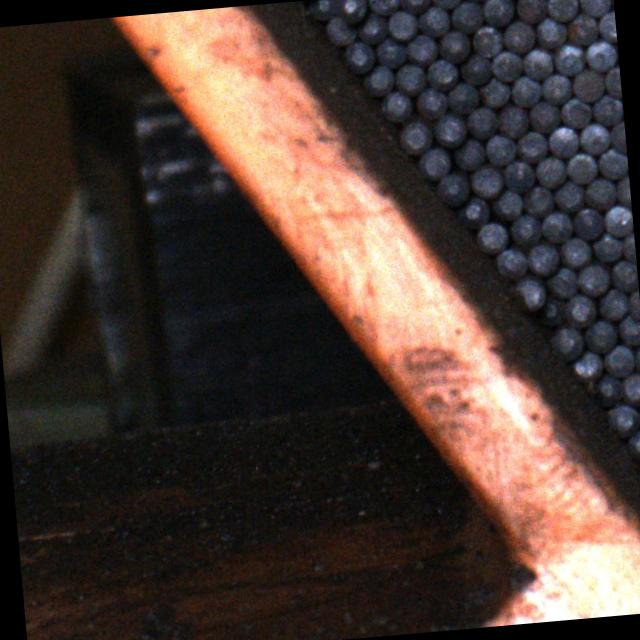tool: (510, 272, 548, 312), (532, 292, 568, 332), (468, 161, 504, 201), (601, 402, 640, 438), (454, 192, 490, 230), (522, 239, 558, 276), (397, 119, 433, 156), (471, 220, 509, 255), (456, 50, 492, 86), (555, 234, 593, 268), (518, 183, 554, 218), (416, 146, 452, 181), (464, 104, 499, 140), (442, 80, 478, 115), (500, 18, 536, 53), (534, 15, 570, 50), (590, 371, 624, 408), (569, 205, 603, 242), (342, 37, 376, 74), (434, 171, 469, 206), (532, 154, 567, 189), (353, 9, 388, 44), (566, 348, 602, 382), (548, 326, 584, 360), (562, 294, 598, 328), (600, 202, 634, 238), (550, 178, 586, 212), (358, 62, 394, 96), (544, 124, 580, 158), (570, 66, 604, 102), (392, 62, 428, 96), (447, 0, 484, 33), (377, 89, 412, 123), (450, 136, 485, 170), (513, 130, 548, 164), (577, 120, 612, 154), (528, 99, 562, 134), (476, 74, 511, 108), (434, 28, 469, 62), (564, 149, 597, 185), (497, 102, 530, 138), (542, 266, 579, 298), (600, 343, 634, 377), (596, 288, 630, 322), (576, 262, 610, 296), (501, 159, 535, 193), (432, 112, 466, 146), (412, 85, 446, 119), (490, 48, 524, 82), (468, 24, 502, 58), (538, 210, 573, 243), (372, 36, 407, 69), (582, 319, 616, 352), (493, 247, 527, 280), (560, 95, 594, 128), (538, 71, 571, 105), (521, 47, 554, 81), (582, 177, 615, 210), (590, 92, 624, 124), (425, 56, 457, 90), (552, 42, 584, 76), (583, 39, 617, 71), (384, 9, 418, 41), (482, 132, 514, 165), (405, 33, 437, 66), (416, 4, 448, 37), (591, 230, 622, 264), (508, 214, 540, 246), (489, 189, 521, 221), (324, 14, 356, 46), (596, 148, 628, 180), (508, 74, 540, 106), (566, 12, 596, 45), (608, 258, 638, 290), (612, 313, 640, 346), (480, 0, 515, 26), (304, 0, 336, 25), (594, 8, 617, 42), (515, 0, 548, 23), (545, 0, 580, 21), (619, 372, 640, 406), (335, 0, 367, 22), (612, 175, 632, 208), (576, 0, 611, 18), (608, 120, 626, 152), (367, 0, 399, 17), (604, 66, 622, 96), (624, 428, 640, 461), (397, 0, 431, 14), (430, 0, 463, 9)
